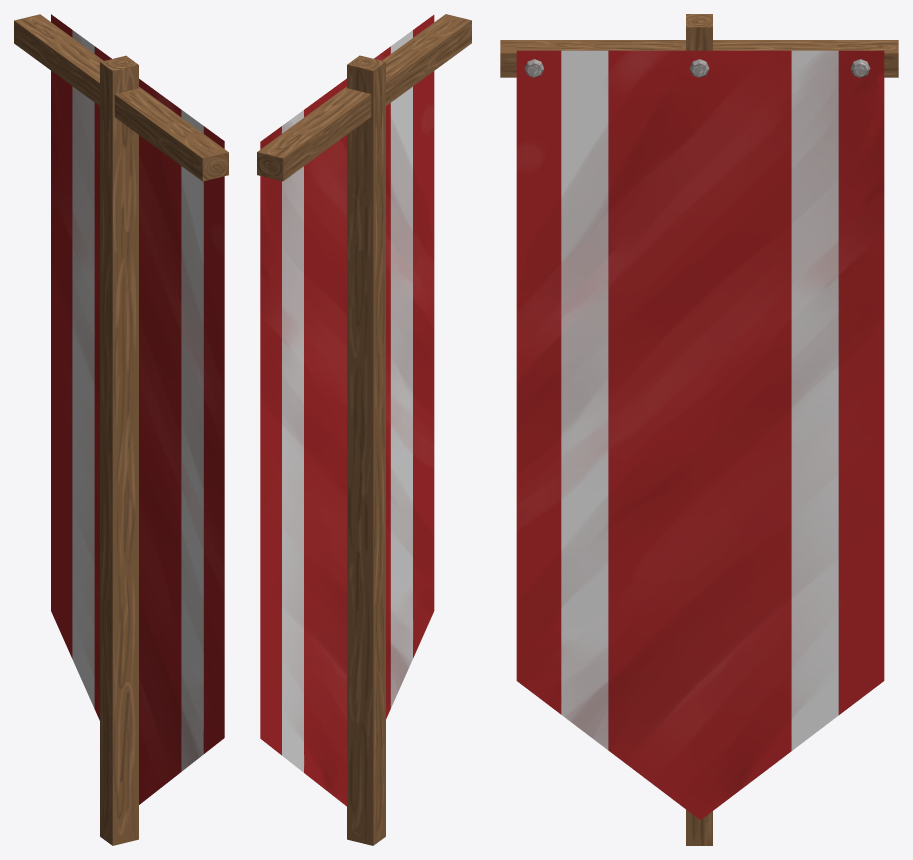
Rendered from Banner.fbx.
The picture shows the model from 3 angles, left to right: view 1: azimuth 30°, elevation 25°; view 2: azimuth 150°, elevation 25°; view 3: azimuth 270°, elevation 25°; orthographic projection. The views are drawn at different scales.
Visible parts, largest first — view 1: Cylinder.002; view 2: Cylinder.002; view 3: Cylinder.002.
Part boxes in pixels (x1,y1,x2,y2): Cylinder.002: (14,14,228,845); Cylinder.002: (257,14,471,845); Cylinder.002: (500,14,898,845).
Size of the model in its own units: 22.62 by 466 by 206.
